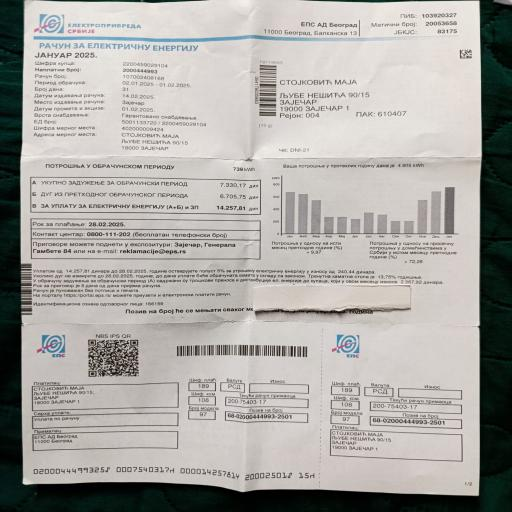racun_za_struju: (26, 156, 260, 230)
